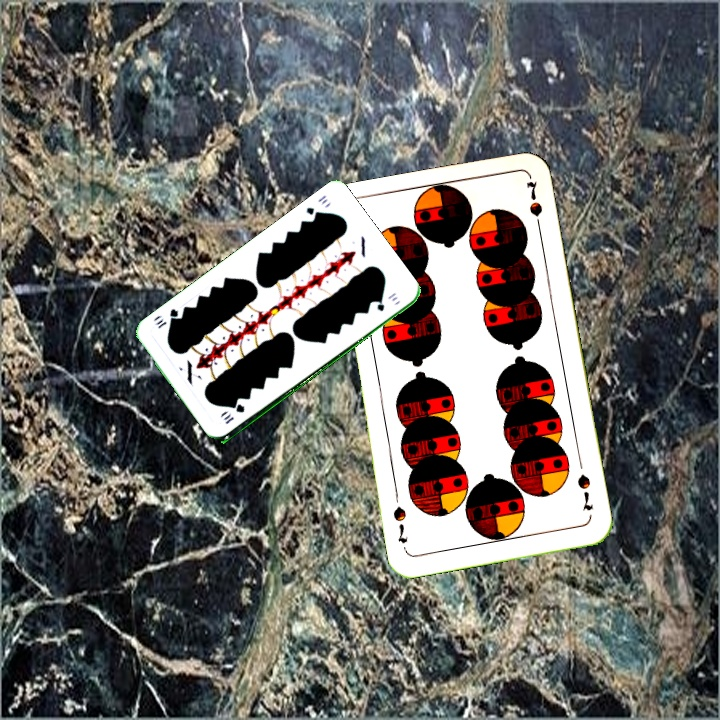G10: (302, 191, 330, 221), (219, 402, 247, 427)
S7: (573, 470, 596, 514)
